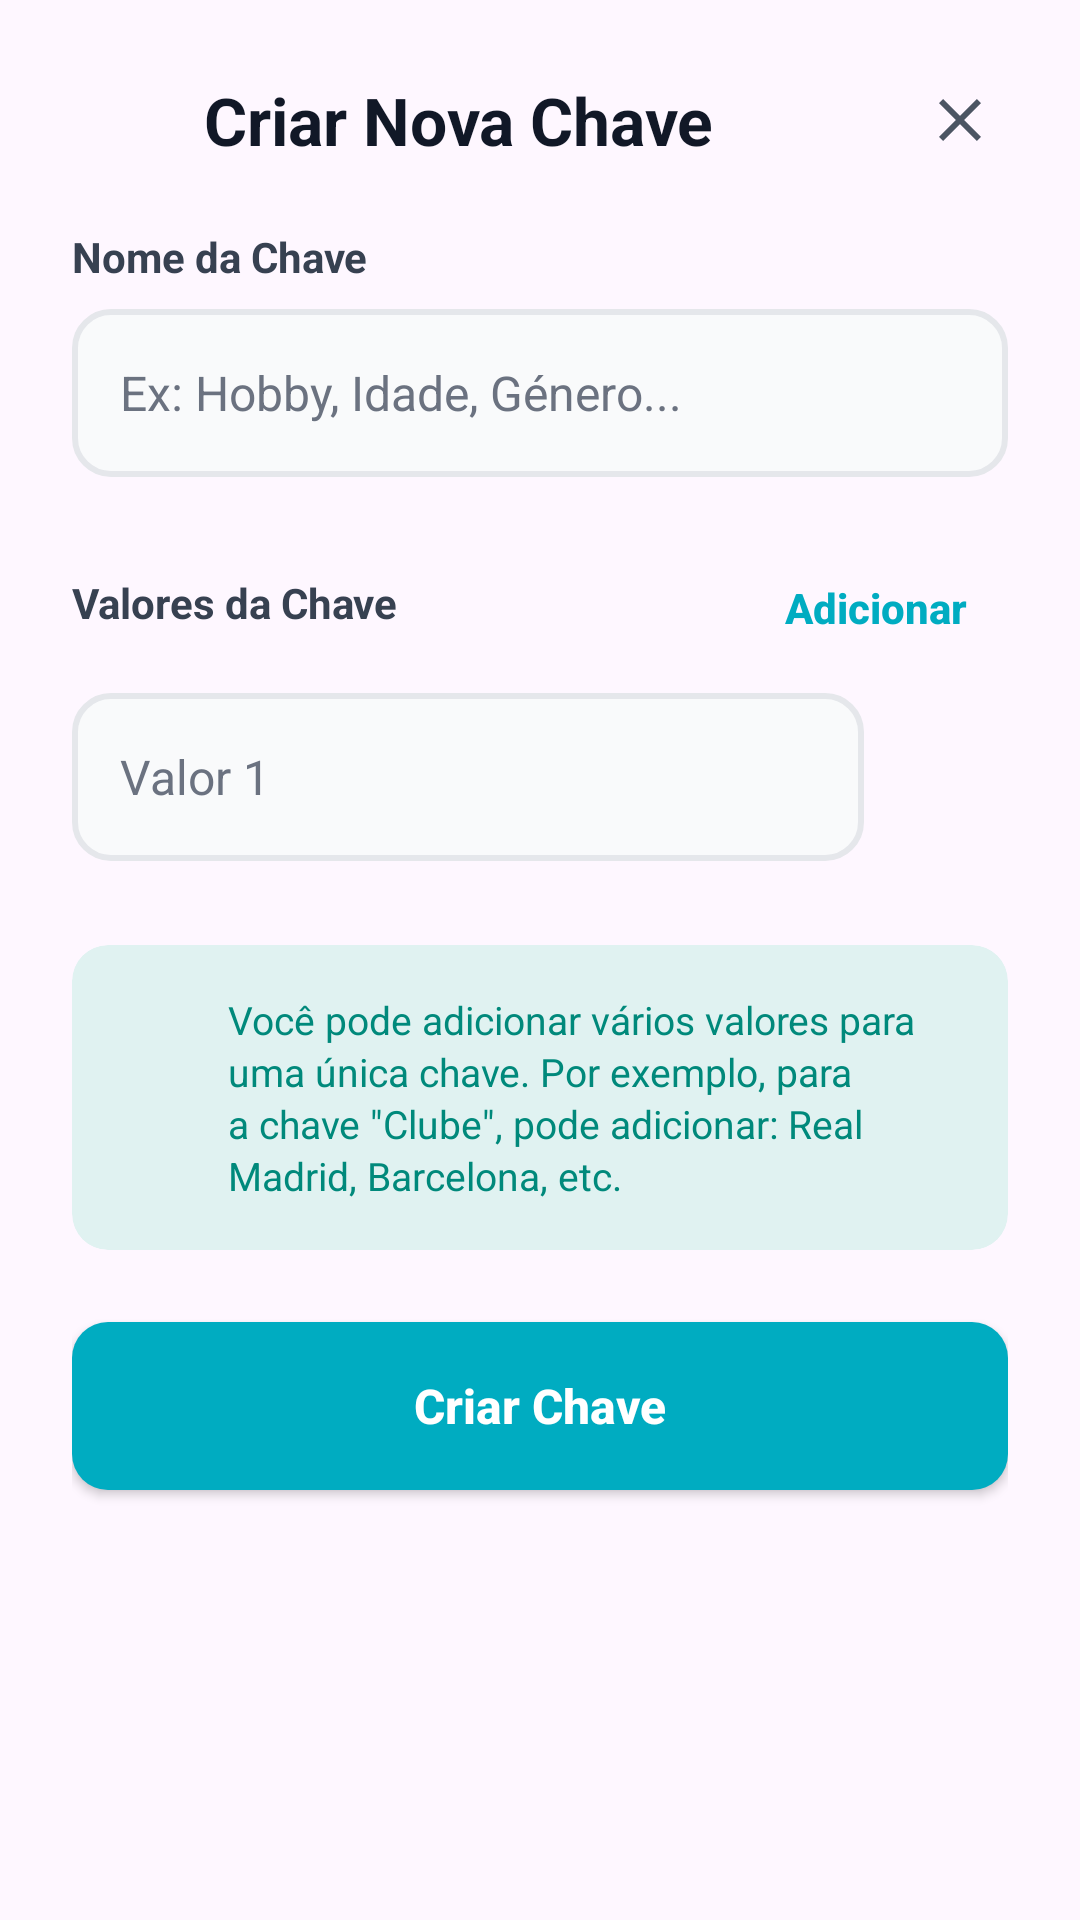

Screen size 1080*1920. Icon name, then its center in pixels as (x,y):
Cancelar: (960,120)
